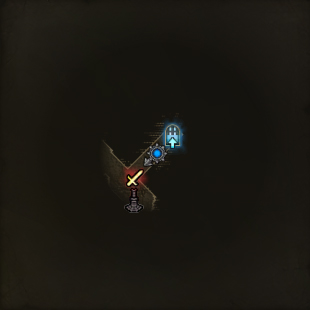PowerPylon: (125, 167, 144, 214)
